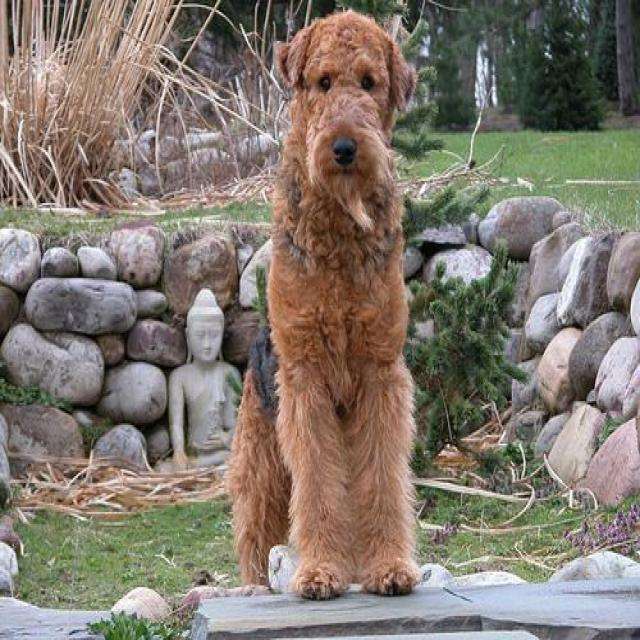airedale: (225, 12, 421, 599)
